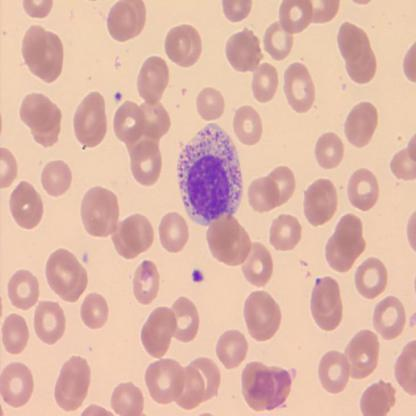Myelocyte: (179, 123, 243, 223)
